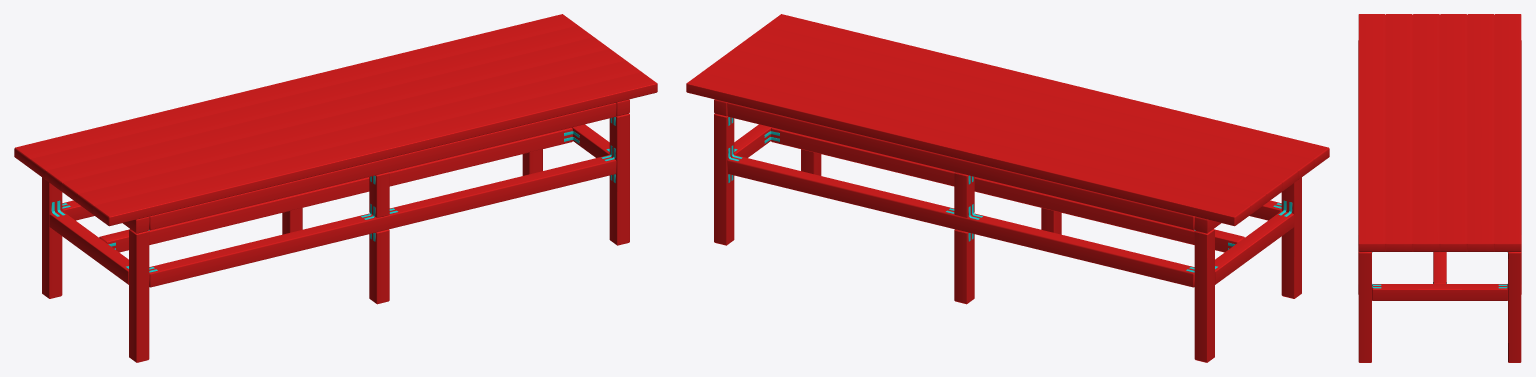
Rendered from Table.fbx.
3 views of the same model, side by side, from view 1: azimuth 30°, elevation 25°; view 2: azimuth 150°, elevation 25°; view 3: azimuth 270°, elevation 25° (orthographic). The views are drawn at different scales.
Visible parts, largest first — view 1: SM_Blacksmith_Table; view 2: SM_Blacksmith_Table; view 3: SM_Blacksmith_Table.
Boxes of the visible parts, x1,y1,x2,y2 form: SM_Blacksmith_Table: (14, 14, 657, 362); SM_Blacksmith_Table: (686, 14, 1329, 362); SM_Blacksmith_Table: (1358, 14, 1521, 362).
Size of the model in its own units: 2 by 0.5327 by 0.5991.
